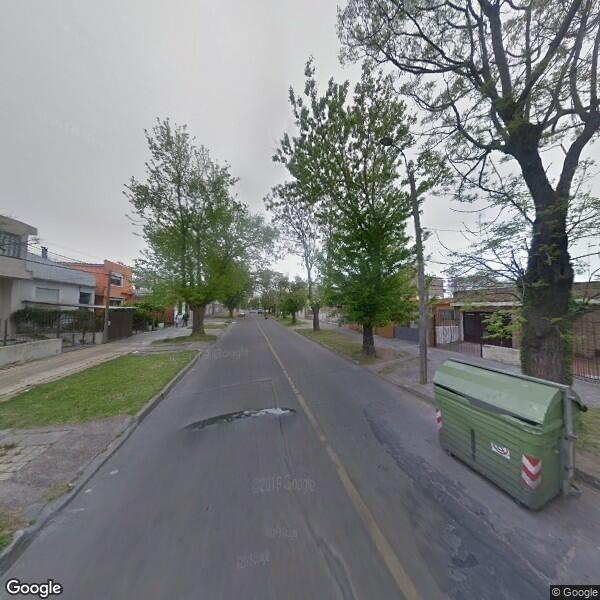Trash: (431, 354, 588, 518)
